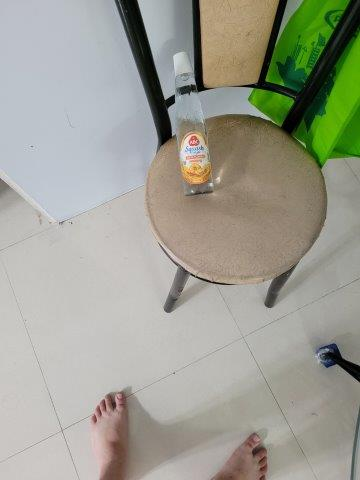botolkaca: (174, 51, 214, 194)
